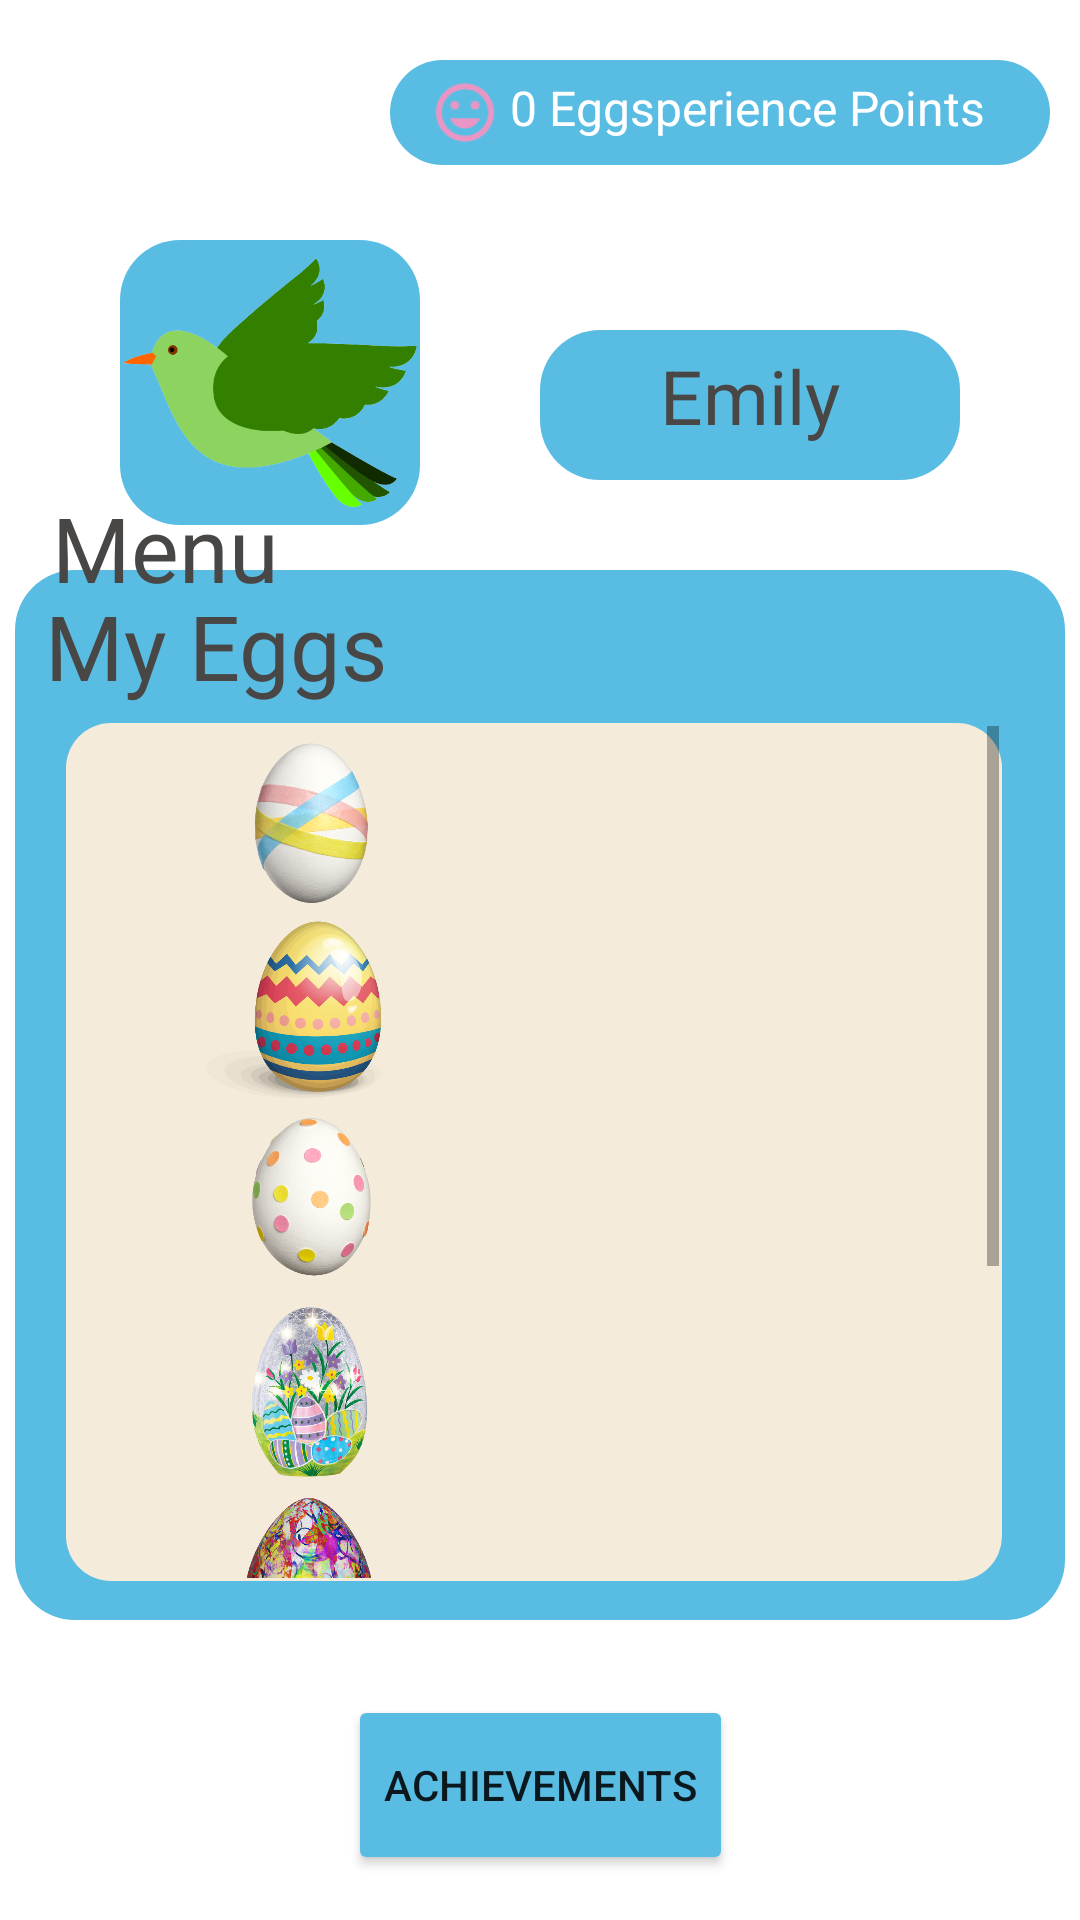

Where to tap for icons on this 1080×1920 app screen, as (x,y):
smiley: (465,112)
